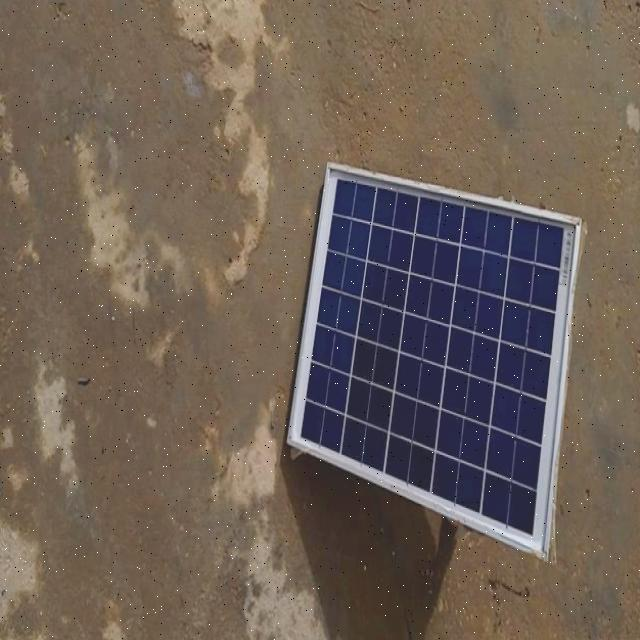Normal Solar Panel: (286, 164, 582, 560)
